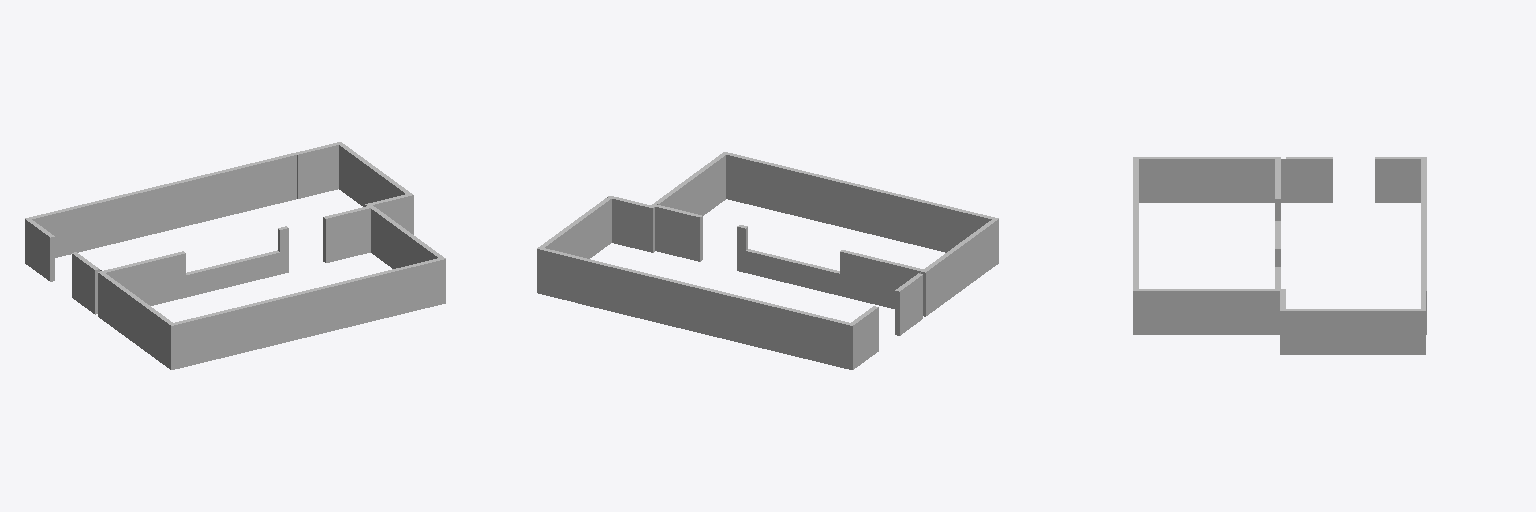
File: L2Walls.obj
3 renders of one model, left to right at view 1: azimuth 30°, elevation 25°; view 2: azimuth 150°, elevation 25°; view 3: azimuth 270°, elevation 25°, orthographic.
Visible parts, largest first — view 1: Walls:Walls_Mesh Walls:initialShadingGroup polySurface2 Walls:po; view 2: Walls:Walls_Mesh Walls:initialShadingGroup polySurface2 Walls:po; view 3: Walls:Walls_Mesh Walls:initialShadingGroup polySurface2 Walls:po.
Part boxes in pixels (x1,y1,x2,y2): Walls:Walls_Mesh Walls:initialShadingGroup polySurface2 Walls:po: (25, 142, 445, 369); Walls:Walls_Mesh Walls:initialShadingGroup polySurface2 Walls:po: (537, 152, 998, 369); Walls:Walls_Mesh Walls:initialShadingGroup polySurface2 Walls:po: (1133, 157, 1426, 354).
Bounding box in the file's own units: 22.35 × 3 × 17.97.